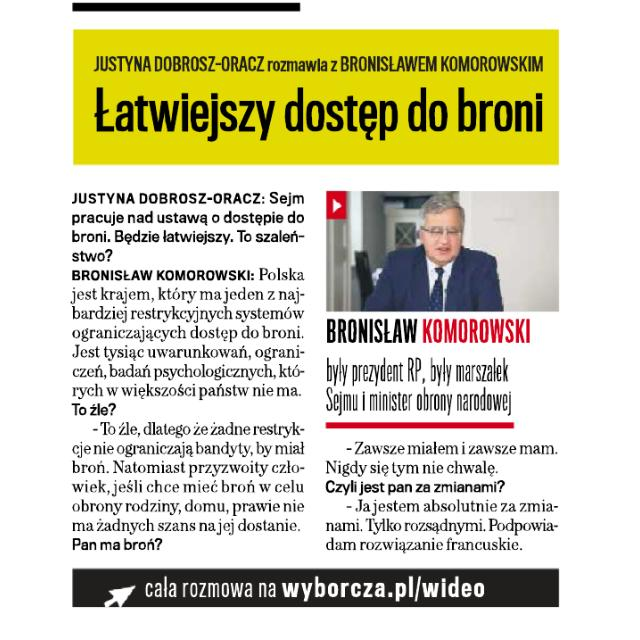body: (68, 268, 310, 560), (320, 430, 562, 558)
caption: (322, 316, 538, 418)
image: (322, 188, 564, 314)
lead: (69, 187, 309, 266)
title: (85, 35, 552, 149)
